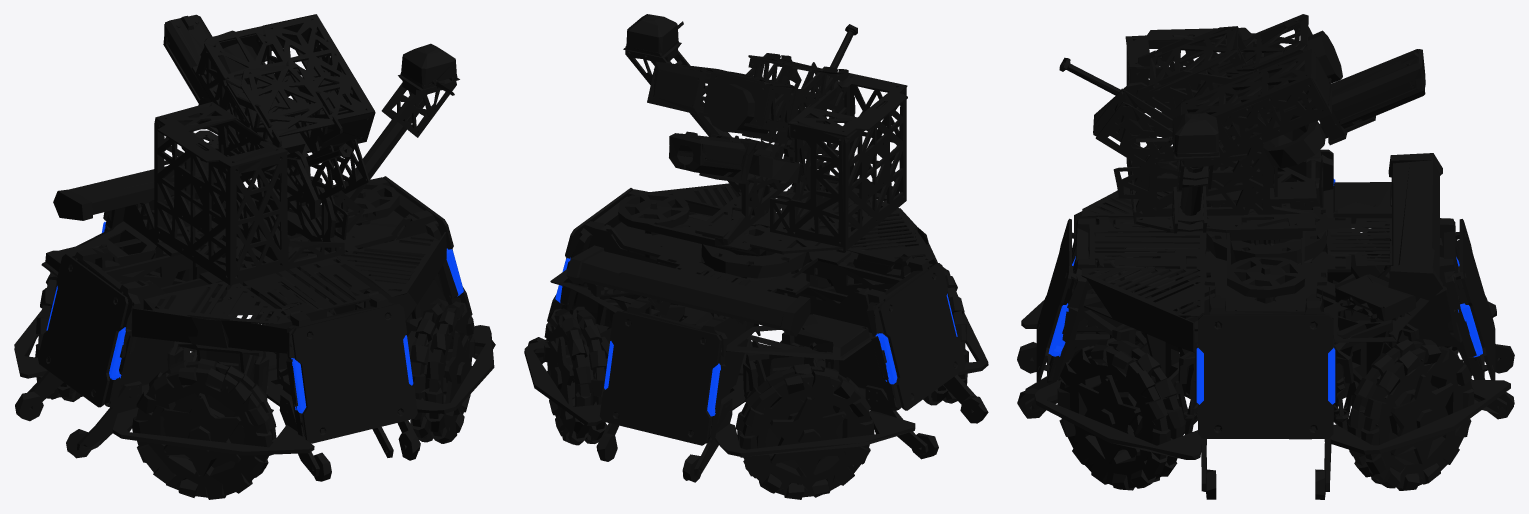
Rendered from vehicle.glb.
The picture shows the model from 3 angles, left to right: view 1: azimuth 30°, elevation 25°; view 2: azimuth 150°, elevation 25°; view 3: azimuth 270°, elevation 25°; orthographic projection. The views are drawn at different scales.
Visible parts, largest first — view 1: BASE, GIMBAL, ARMOR_4, ARMOR_1, ARMOR_3; view 2: BASE, GIMBAL, ARMOR_2, ARMOR_1, ARMOR_3; view 3: BASE, GIMBAL, ARMOR_3, ARMOR_2, ARMOR_4.
Boxes of the visible parts, x1=… form: BASE: x1=14, y1=161, x2=495, y2=499; GIMBAL: x1=154, y1=14, x2=459, y2=285; ARMOR_4: x1=291, y1=303, x2=417, y2=443; ARMOR_1: x1=38, y1=254, x2=128, y2=407; ARMOR_3: x1=383, y1=176, x2=472, y2=315; BASE: x1=524, y1=183, x2=988, y2=499; GIMBAL: x1=623, y1=14, x2=907, y2=255; ARMOR_2: x1=599, y1=310, x2=721, y2=445; ARMOR_1: x1=878, y1=263, x2=965, y2=410; ARMOR_3: x1=547, y1=188, x2=633, y2=322; BASE: x1=1017, y1=150, x2=1514, y2=499; GIMBAL: x1=1059, y1=14, x2=1425, y2=240; ARMOR_3: x1=1198, y1=315, x2=1333, y2=439; ARMOR_2: x1=1459, y1=219, x2=1495, y2=380; ARMOR_4: x1=1036, y1=218, x2=1071, y2=382.
Size of the model in its own units: 0.5191 by 0.4319 by 0.495.
Materials: 2 (1 with a texture image).
